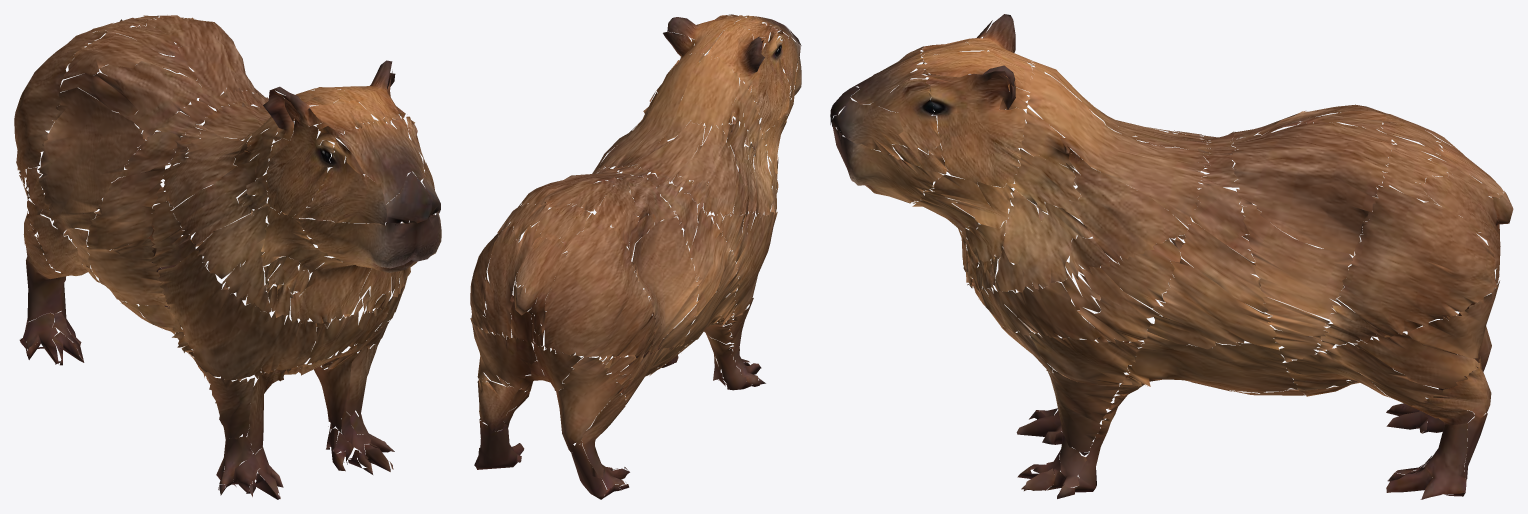
Rendered from capivara.glb.
The picture shows the model from 3 angles, left to right: view 1: azimuth 30°, elevation 25°; view 2: azimuth 150°, elevation 25°; view 3: azimuth 270°, elevation 25°; orthographic projection. The views are drawn at different scales.
Parts seen in each view (by area): view 1: tripo_node_10c64a1b-e645-45e9-ac49-6053c7cc3155; view 2: tripo_node_10c64a1b-e645-45e9-ac49-6053c7cc3155; view 3: tripo_node_10c64a1b-e645-45e9-ac49-6053c7cc3155.
Boxes of the visible parts, left/top/right/bottom form: tripo_node_10c64a1b-e645-45e9-ac49-6053c7cc3155: left=14, top=15, right=441, bottom=499; tripo_node_10c64a1b-e645-45e9-ac49-6053c7cc3155: left=470, top=14, right=801, bottom=499; tripo_node_10c64a1b-e645-45e9-ac49-6053c7cc3155: left=830, top=14, right=1513, bottom=499.
Size of the model in its own units: 0.5196 by 0.95 by 1.39.
Materials: 1 (1 with a texture image).
